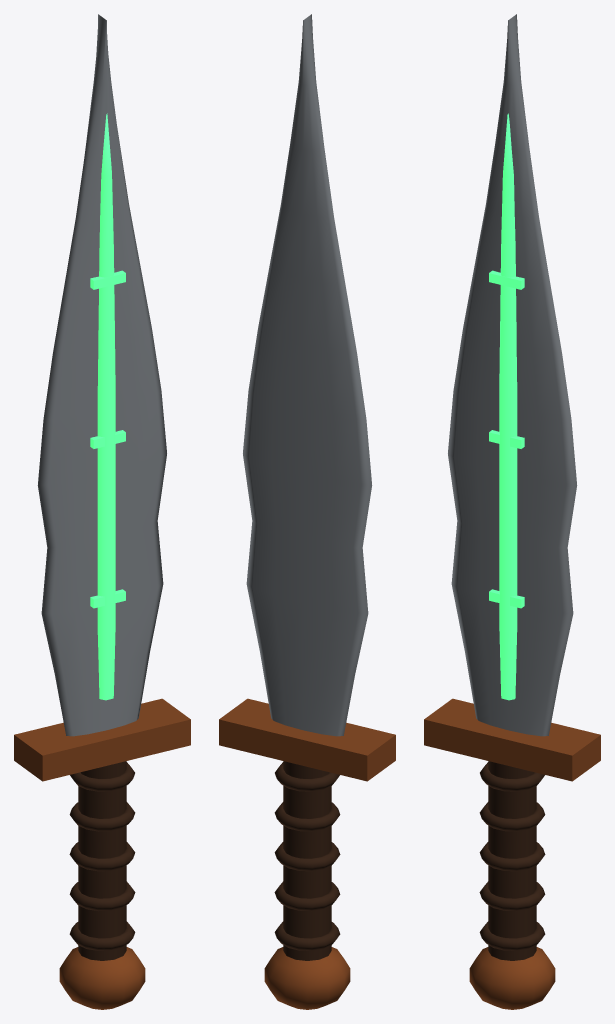
The model's file is enemigo_esqueleto_espada_gladius.fbx.
3 renders of one model, left to right at view 1: azimuth 30°, elevation 25°; view 2: azimuth 150°, elevation 25°; view 3: azimuth 330°, elevation 25°, orthographic.
Parts seen in each view (by area): view 1: Gladius_Blade, Gladius_Guard, Gladius_Grip, Gladius_Glow; view 2: Gladius_Blade, Gladius_Guard, Gladius_Grip; view 3: Gladius_Blade, Gladius_Guard, Gladius_Grip, Gladius_Glow.
Part boxes in pixels (x1,y1,x2,y2): Gladius_Blade: (37,14,166,736); Gladius_Guard: (14,698,190,1009); Gladius_Grip: (69,761,135,960); Gladius_Glow: (90,113,125,700); Gladius_Blade: (243,14,372,736); Gladius_Guard: (219,698,395,1009); Gladius_Grip: (274,761,340,960); Gladius_Blade: (448,14,577,736); Gladius_Guard: (424,698,600,1009); Gladius_Grip: (479,761,545,960); Gladius_Glow: (489,113,524,700).
Bounding box in the file's own units: 7.8 × 49.6 × 3.9.
